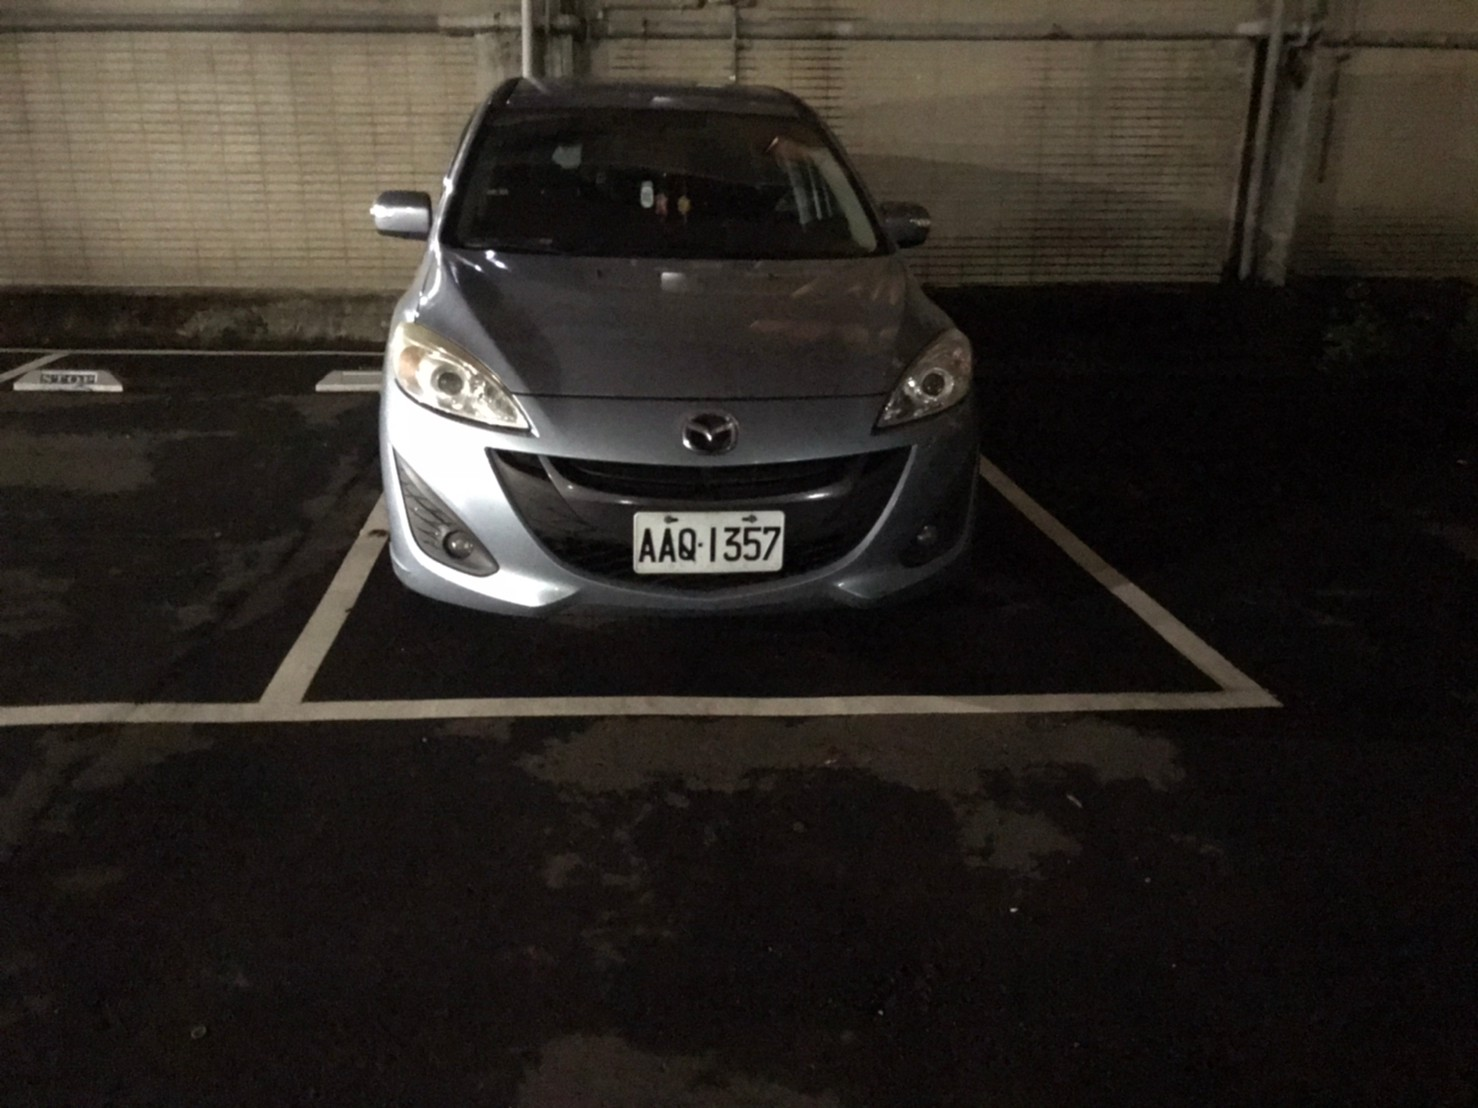LP: (626, 506, 789, 577)
